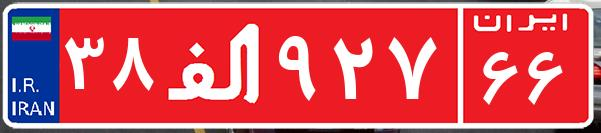2: (330, 28, 385, 110)
3: (57, 26, 110, 107)
6: (475, 38, 525, 113), (525, 38, 570, 115)
7: (385, 28, 445, 110)
8: (110, 28, 158, 105)
9: (273, 28, 330, 110)
الف: (158, 15, 273, 115)
